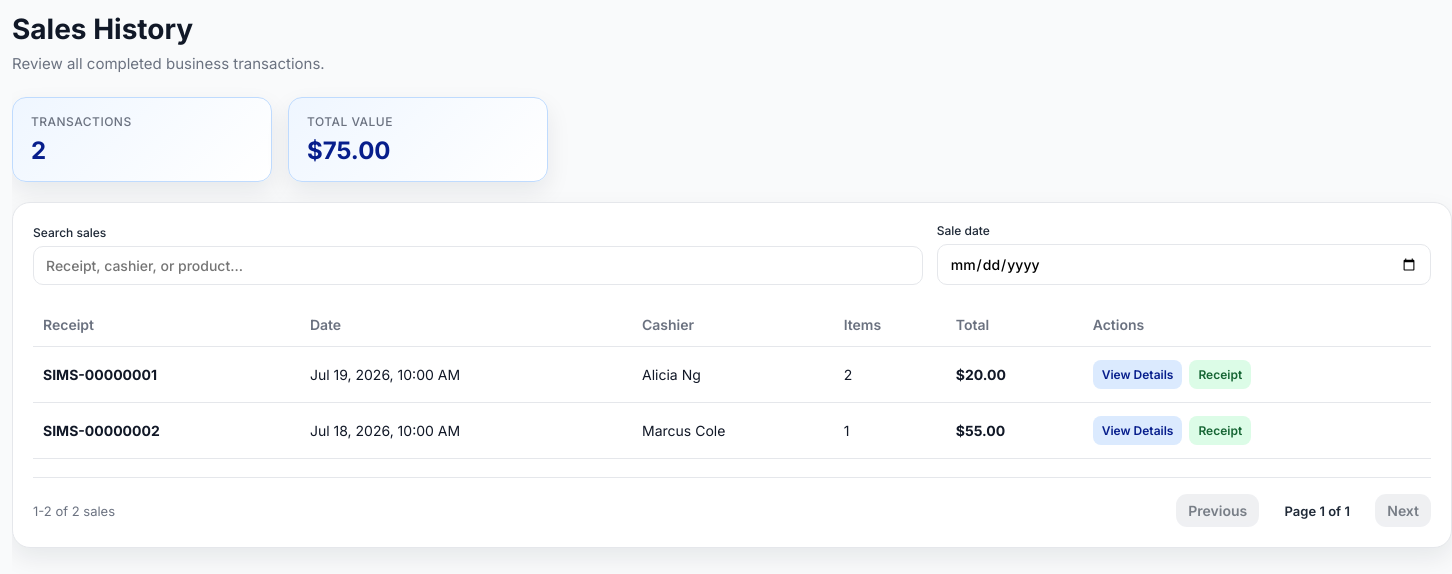
Scenario: SalesHistory › searches by product and filters the visible results
Expected: the text "SIMS-00000001" is shown, x1=43 y1=366 x2=157 y2=383
Type "Rice" into the field labelled "Search sales" at (478, 266), box x1=33 y1=246 x2=923 y2=285
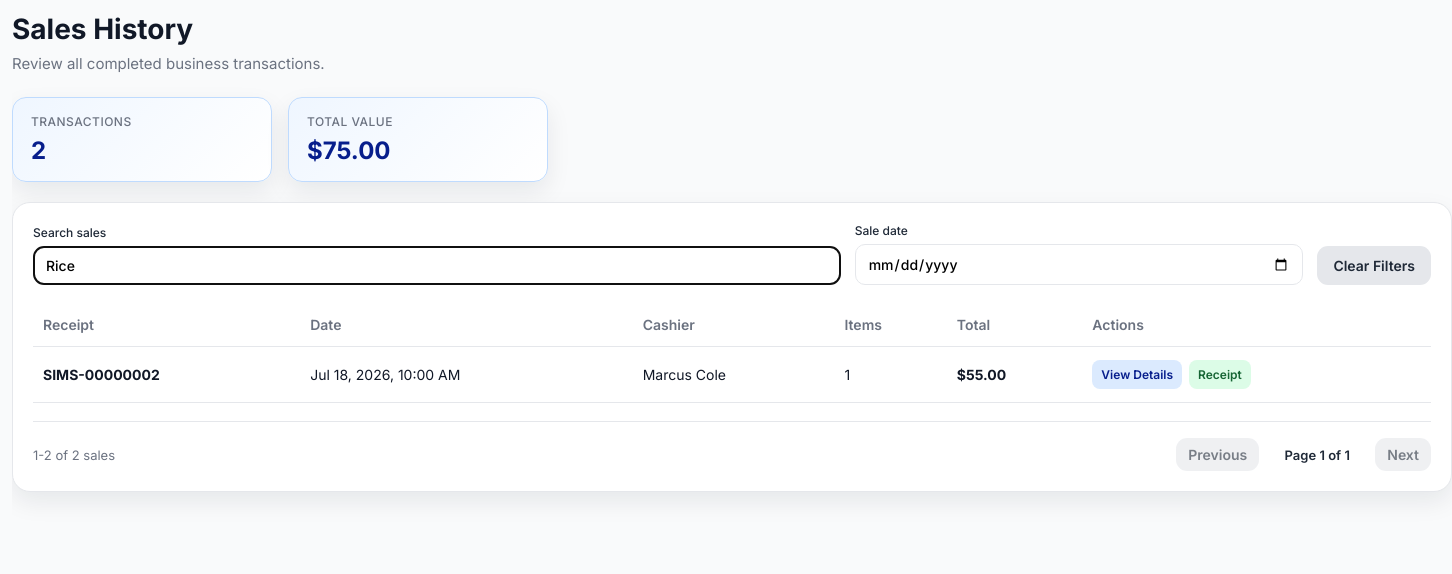
Expected: the text "SIMS-00000002" is shown, x1=43 y1=366 x2=160 y2=383
Expected: the text "SIMS-00000001" is gone
